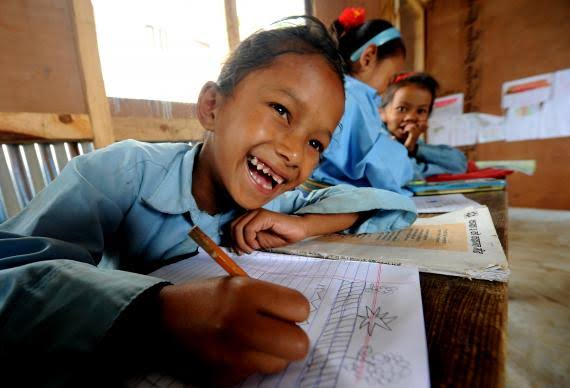student: (195, 25, 337, 213), (341, 17, 408, 90), (378, 63, 438, 140)
